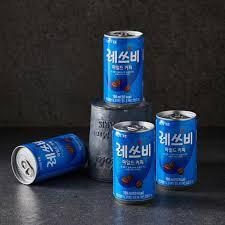letsbe: (9, 135, 86, 184), (154, 108, 198, 185), (105, 32, 148, 109), (115, 120, 154, 201)
